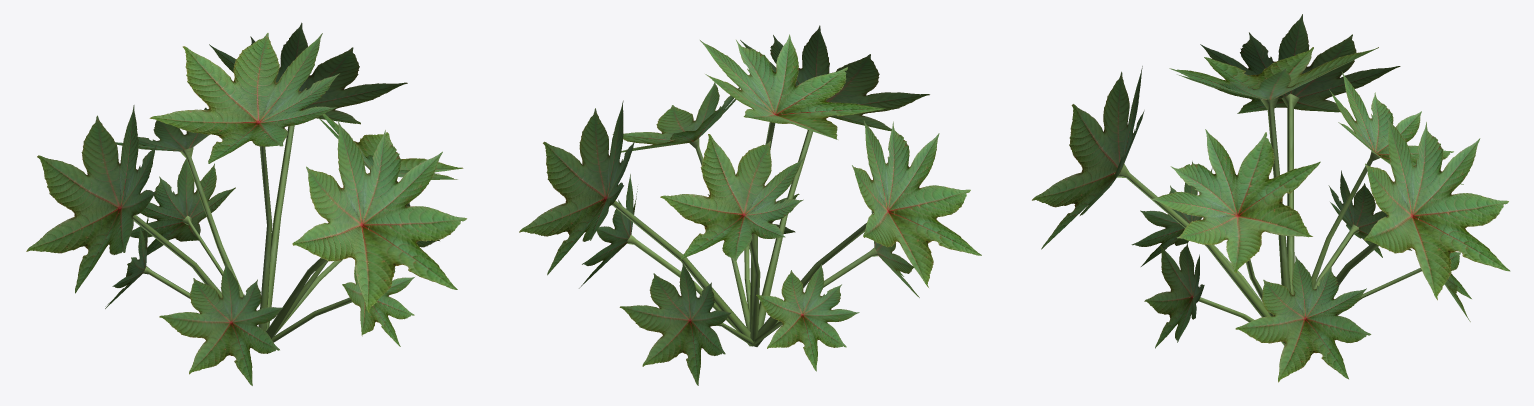
Rendered from Plant_08.FBX.
3 renders of one model, left to right at view 1: azimuth 30°, elevation 25°; view 2: azimuth 150°, elevation 25°; view 3: azimuth 270°, elevation 25°, orthographic. The views are drawn at different scales.
Parts seen in each view (by area): view 1: Plant_08; view 2: Plant_08; view 3: Plant_08.
Boxes of the visible parts, x1=… form: Plant_08: x1=26, y1=22, x2=467, y2=385; Plant_08: x1=519, y1=25, x2=981, y2=385; Plant_08: x1=1032, y1=14, x2=1510, y2=382.
Bounding box in the file's own units: 0.8455 × 0.6124 × 0.8929.
